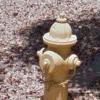Hydrant: (30, 10, 85, 100)
